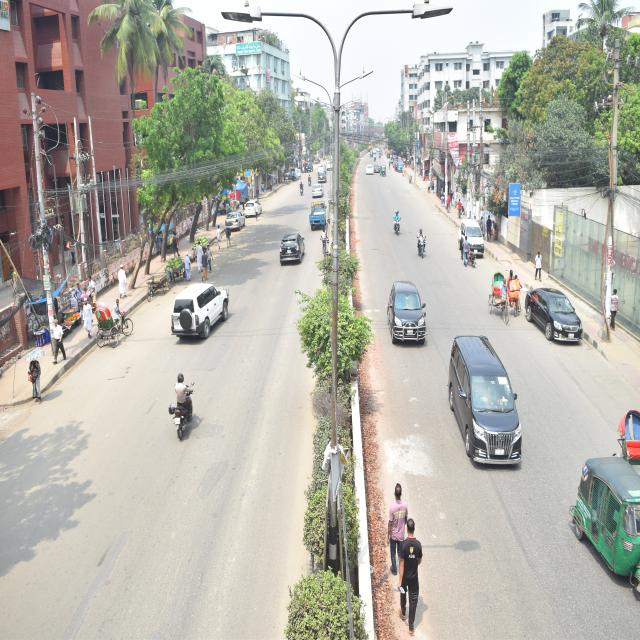car: (447, 319, 518, 454), (528, 282, 584, 356), (171, 278, 233, 344), (389, 285, 427, 340), (456, 211, 493, 259), (276, 230, 295, 278), (240, 196, 262, 220), (225, 211, 244, 233), (317, 162, 329, 192), (311, 178, 323, 200)
motorbike: (166, 362, 202, 458), (416, 224, 429, 266), (393, 204, 403, 252)
